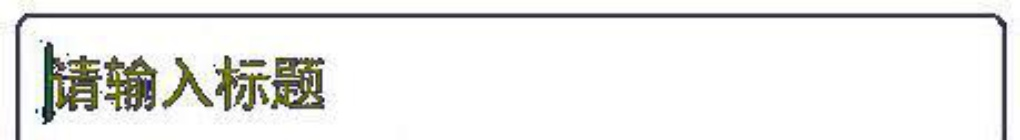EditText: (1, 1, 1019, 139)
